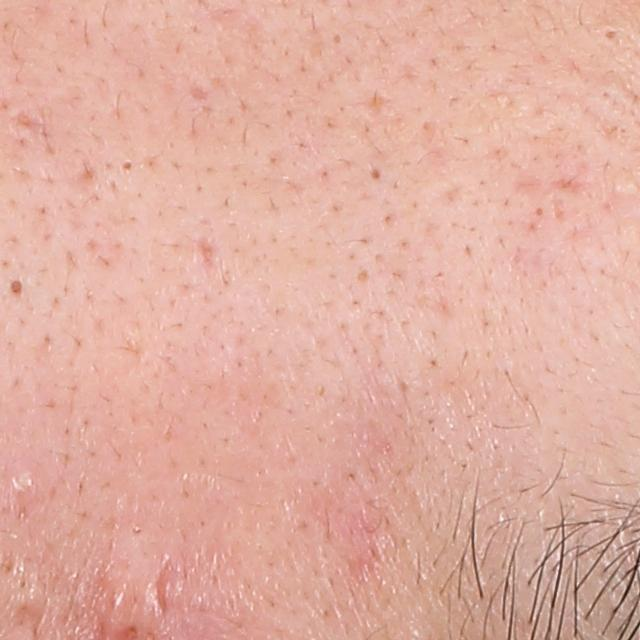atrophic_scar: (149, 553, 172, 623), (194, 235, 223, 273), (189, 81, 215, 102)
comedo: (6, 275, 26, 299), (119, 159, 133, 172)
